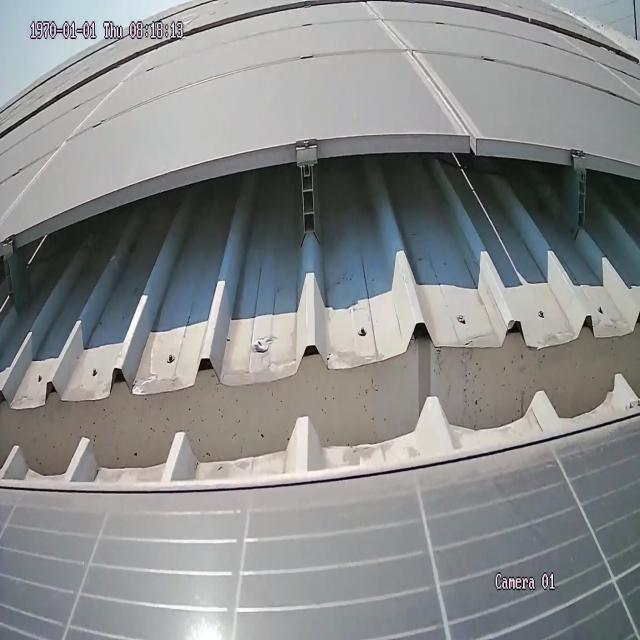interior panel: (364, 8, 484, 133)
outher panel: (0, 146, 639, 493)
